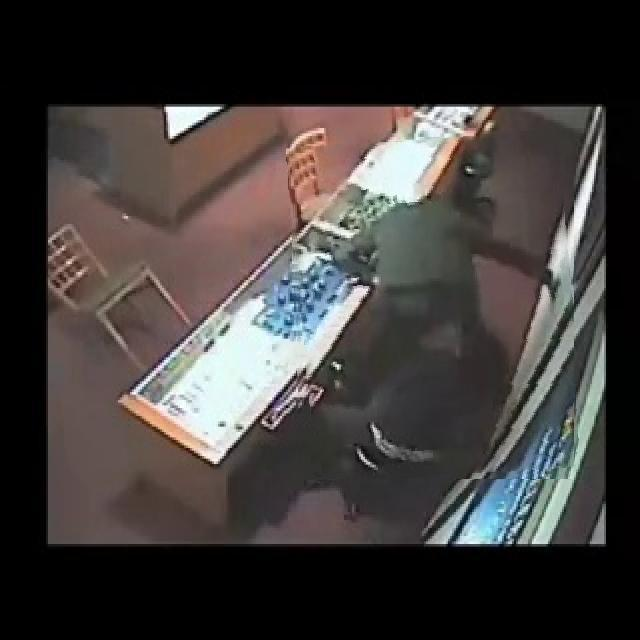Shoplifting: (292, 134, 574, 479)
